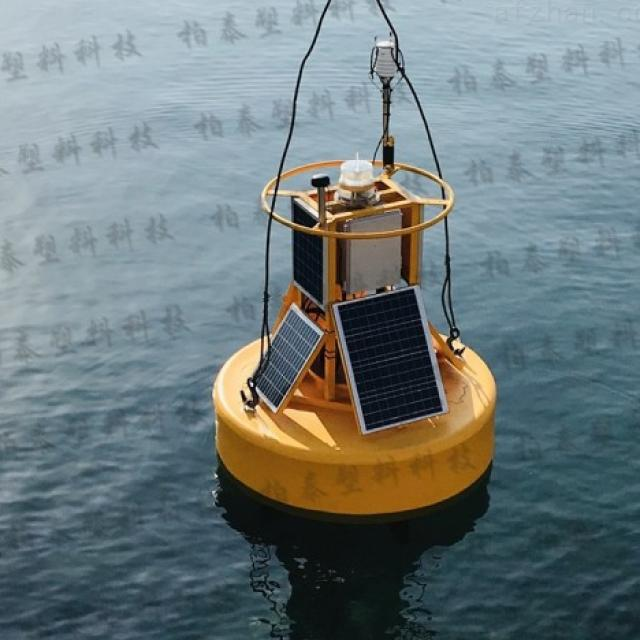buoy: (204, 45, 506, 525)
